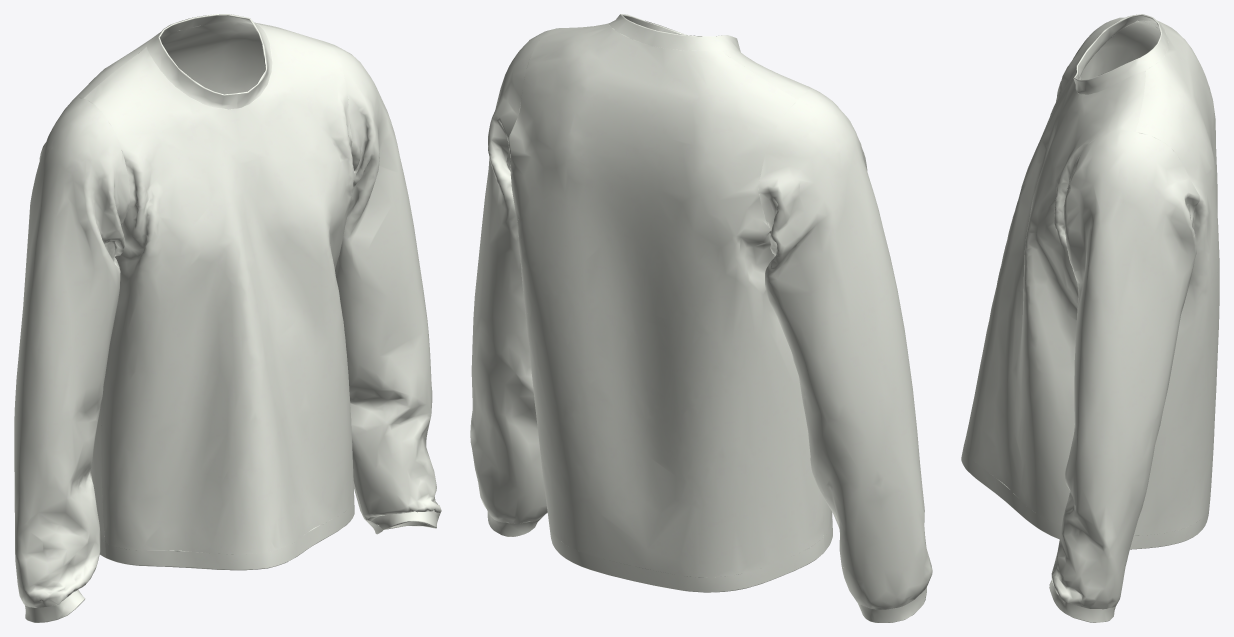
Rendered from embroidery-long-sleeve.glb.
The picture shows the model from 3 angles, left to right: view 1: azimuth 30°, elevation 25°; view 2: azimuth 150°, elevation 25°; view 3: azimuth 270°, elevation 25°; orthographic projection. The views are drawn at different scales.
Parts seen in each view (by area): view 1: Long Sleeve T-Shirt; view 2: Long Sleeve T-Shirt; view 3: Long Sleeve T-Shirt.
Boxes of the visible parts, x1=… form: Long Sleeve T-Shirt: x1=14, y1=14, x2=441, y2=622; Long Sleeve T-Shirt: x1=470, y1=14, x2=932, y2=622; Long Sleeve T-Shirt: x1=961, y1=14, x2=1219, y2=622.
Bounding box in the file's own units: 0.619 × 0.7558 × 0.3509.
Materials: 1 (1 with a texture image).
